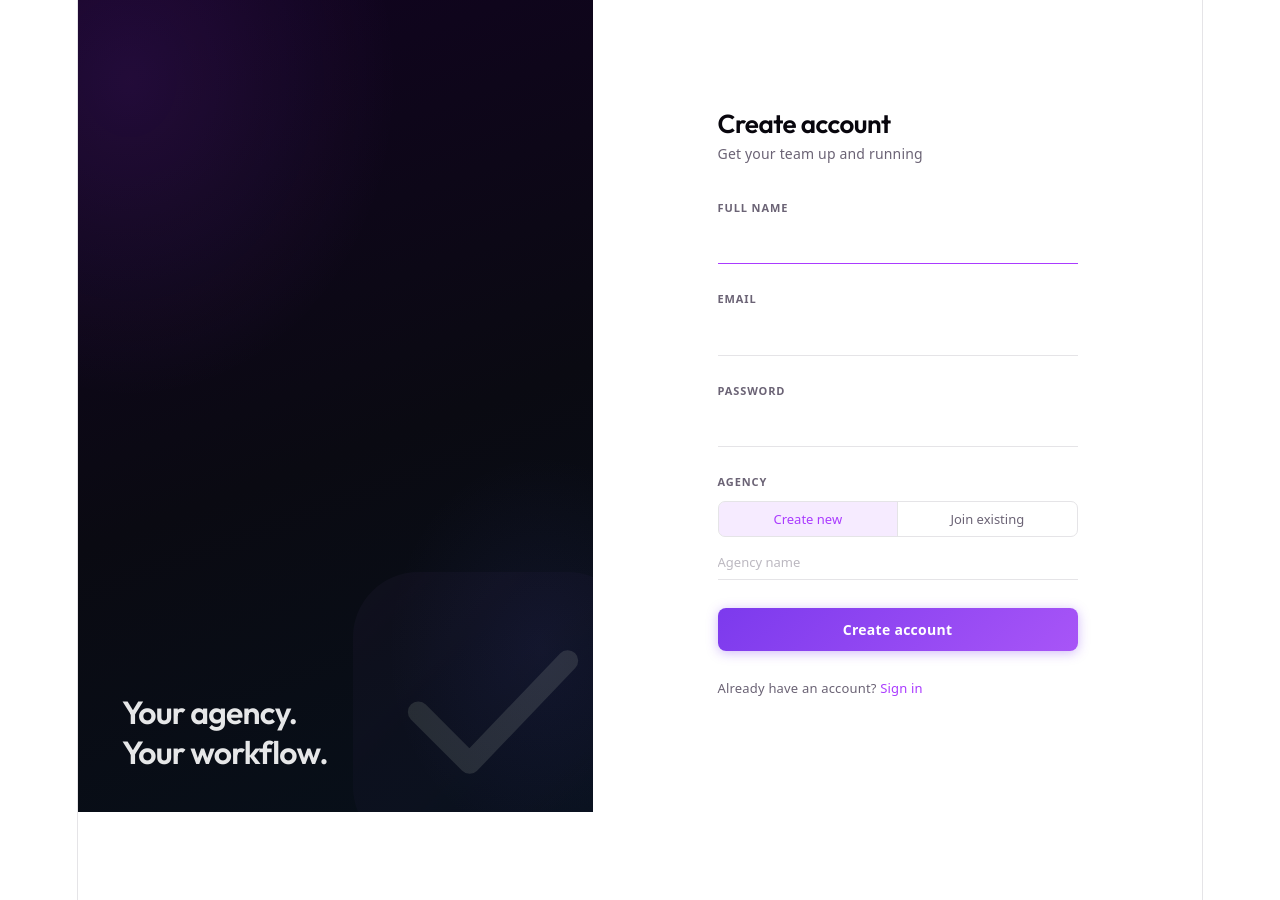
Test: RegisterPage › shows 'Email already registered' error on 409
This screenshot has width=1280, height=900.
In the field labelled "Full name": (898,246) [718, 228, 1078, 264], type "Jane"
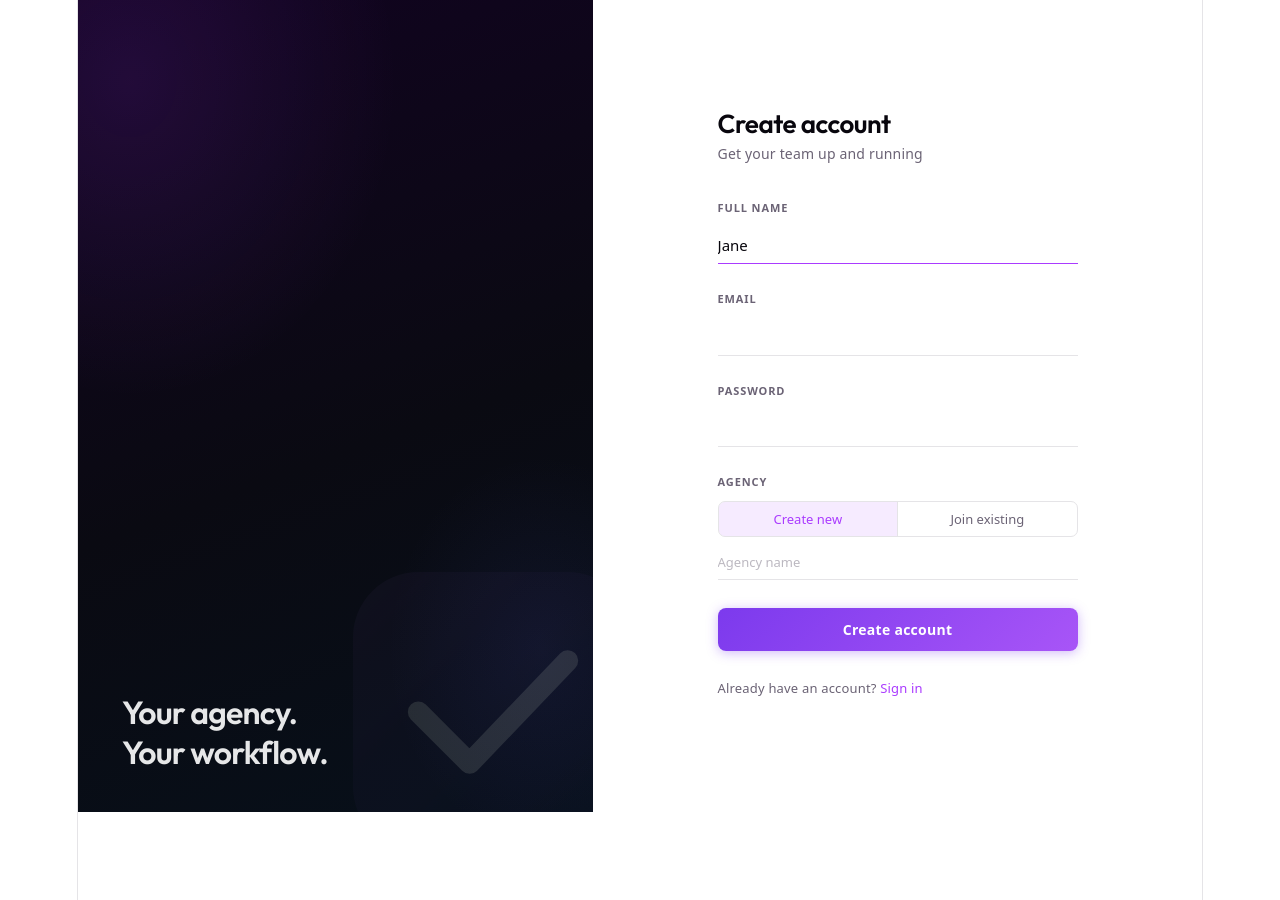
In the field labelled "Email": (898,337) [718, 318, 1078, 356], type "jane@example.com"
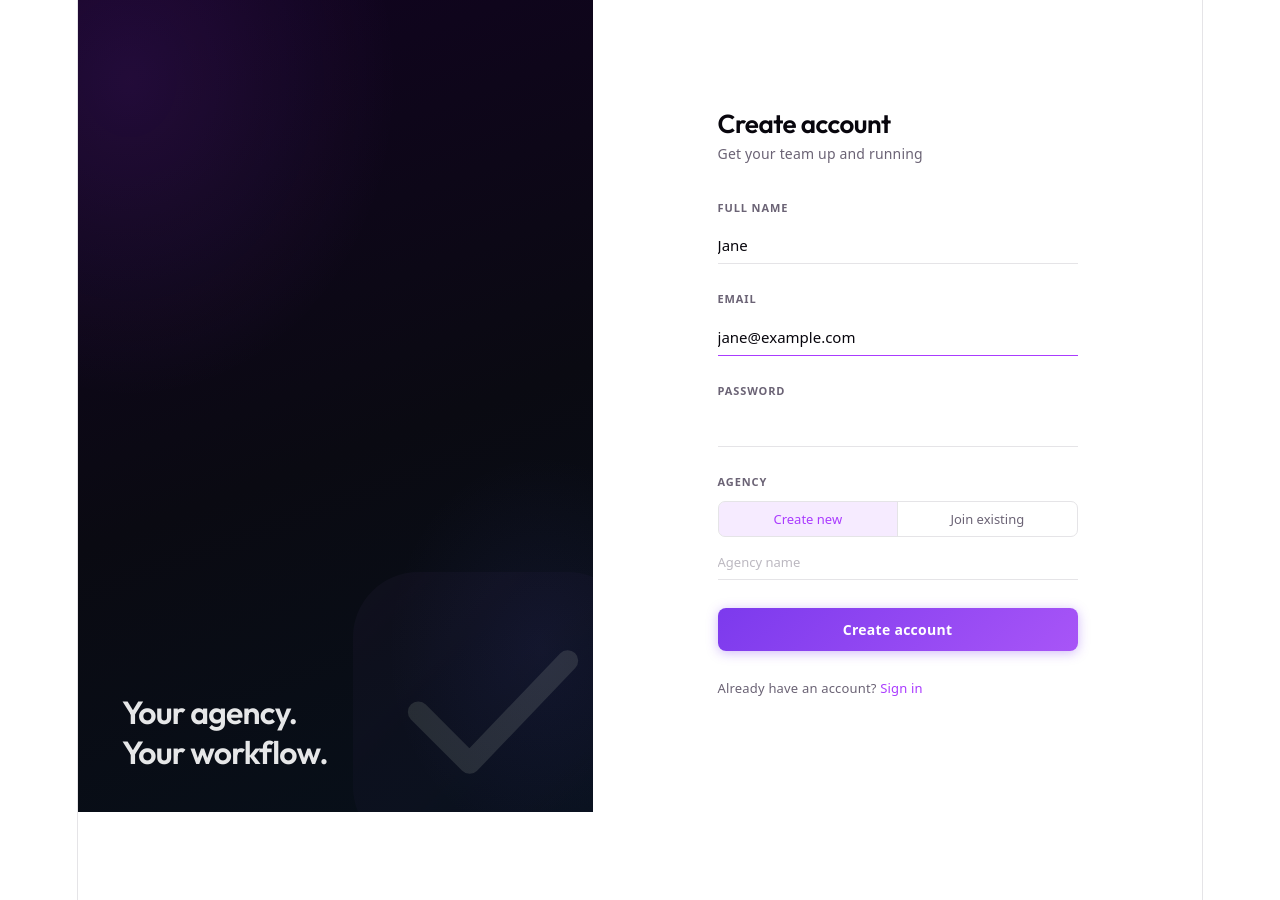
In the password field labelled "Password": (898,428) [718, 410, 1078, 447], type "pass"
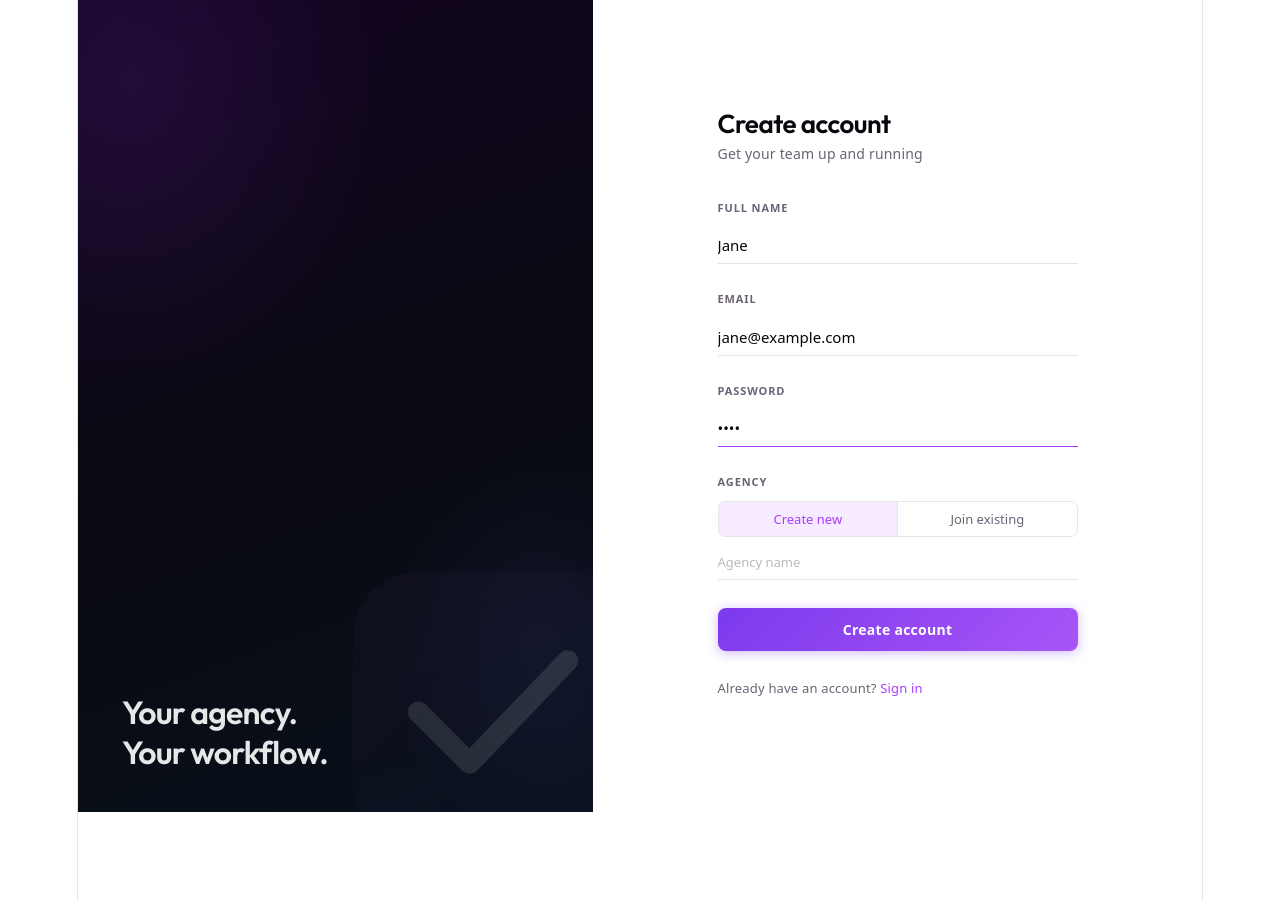
In the field labelled "Agency name": (898,561) [718, 543, 1078, 580], type "Acme"
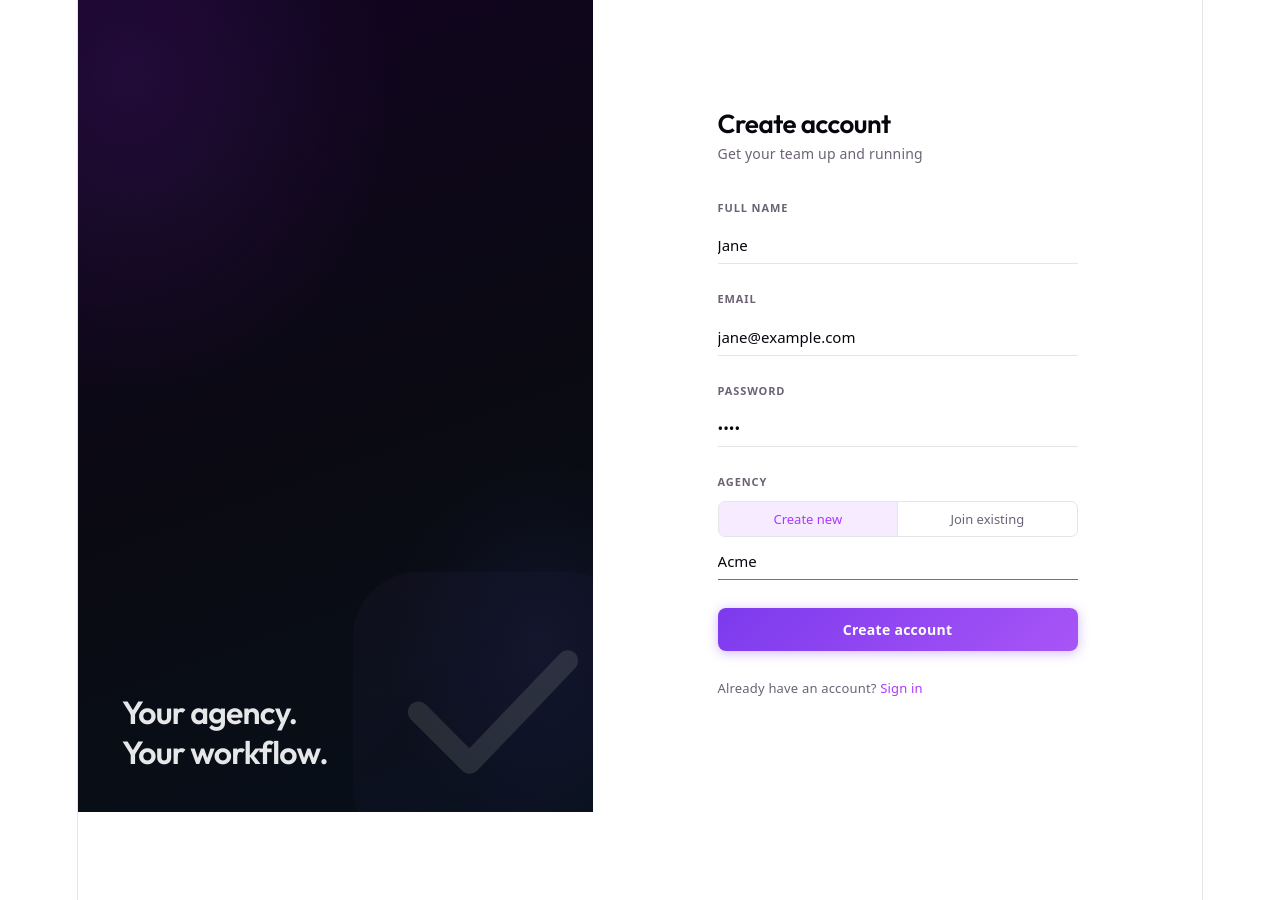
Click the button "Create account": (898,629) [718, 608, 1078, 651]
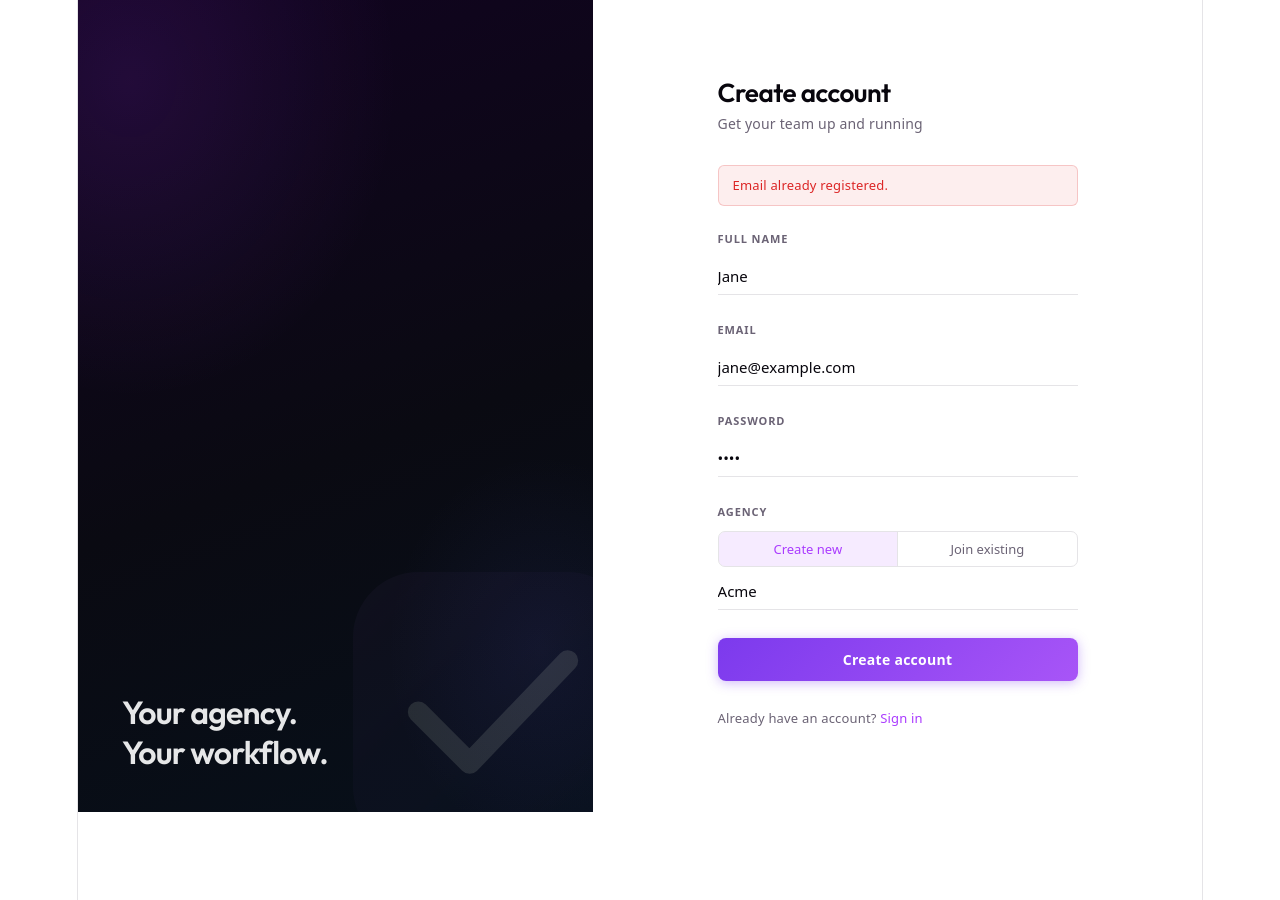
Now the text "Email already registered." is shown, box [718, 165, 1078, 206]
